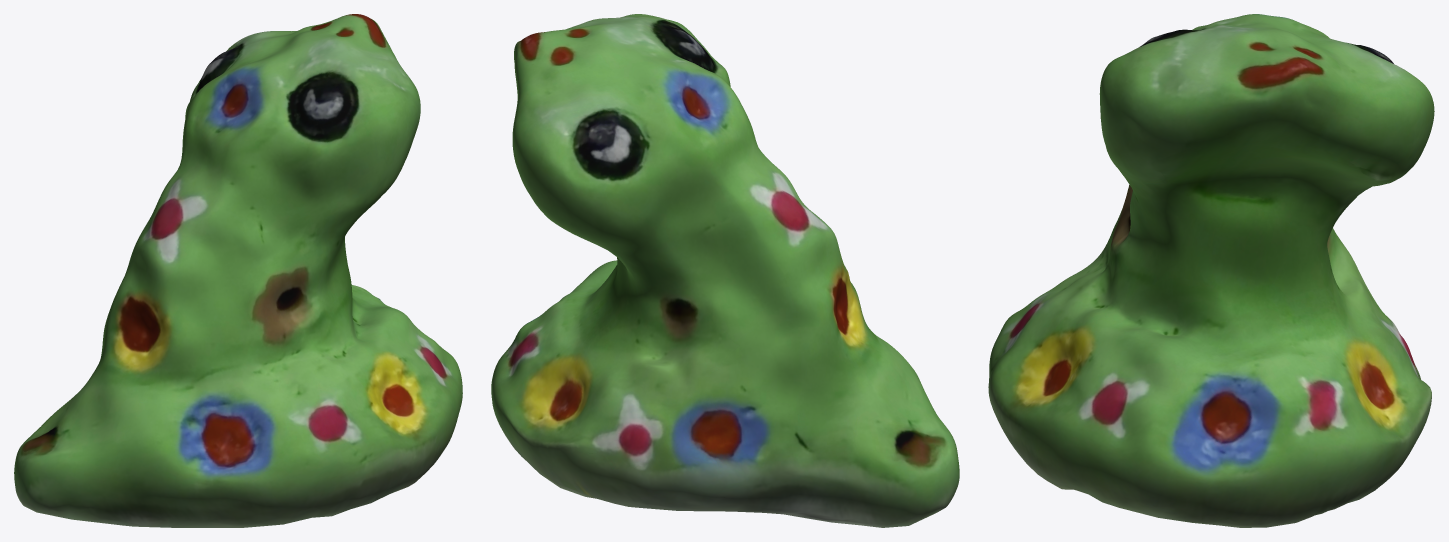
3 renders of one model, left to right at view 1: azimuth 30°, elevation 25°; view 2: azimuth 150°, elevation 25°; view 3: azimuth 270°, elevation 25°, orthographic. The views are drawn at different scales.
Size of the model in its own units: 0.2213 by 0.2095 by 0.1747.
1 material, 1 textured.
